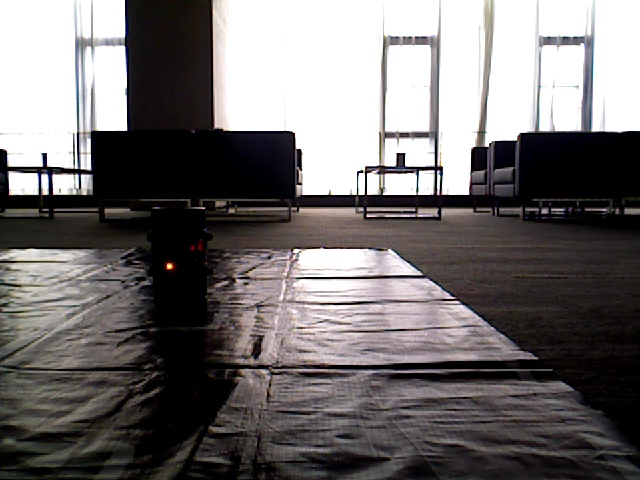yellow: (150, 223, 190, 296)
